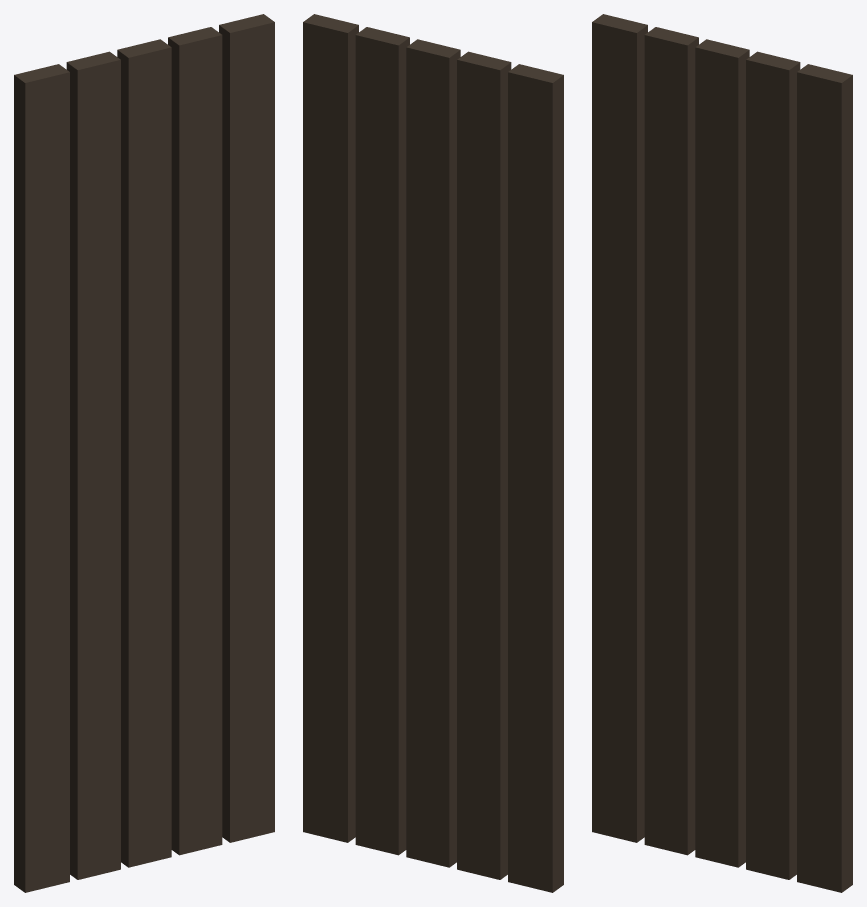
The model's file is wall_separator_alt.fbx.
The picture shows the model from 3 angles, left to right: view 1: azimuth 30°, elevation 25°; view 2: azimuth 150°, elevation 25°; view 3: azimuth 330°, elevation 25°; orthographic projection.
Parts seen in each view (by area): view 1: wall_separator_alt; view 2: wall_separator_alt; view 3: wall_separator_alt.
Part boxes in pixels (bbox=[...]): wall_separator_alt: bbox=[14, 14, 274, 892]; wall_separator_alt: bbox=[303, 14, 563, 892]; wall_separator_alt: bbox=[592, 14, 852, 892].
Size of the model in its own units: 96.83 by 300 by 7.5.
